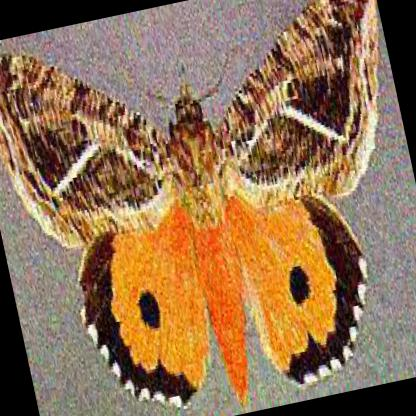fruit sucking moth: (0, 0, 380, 409)
